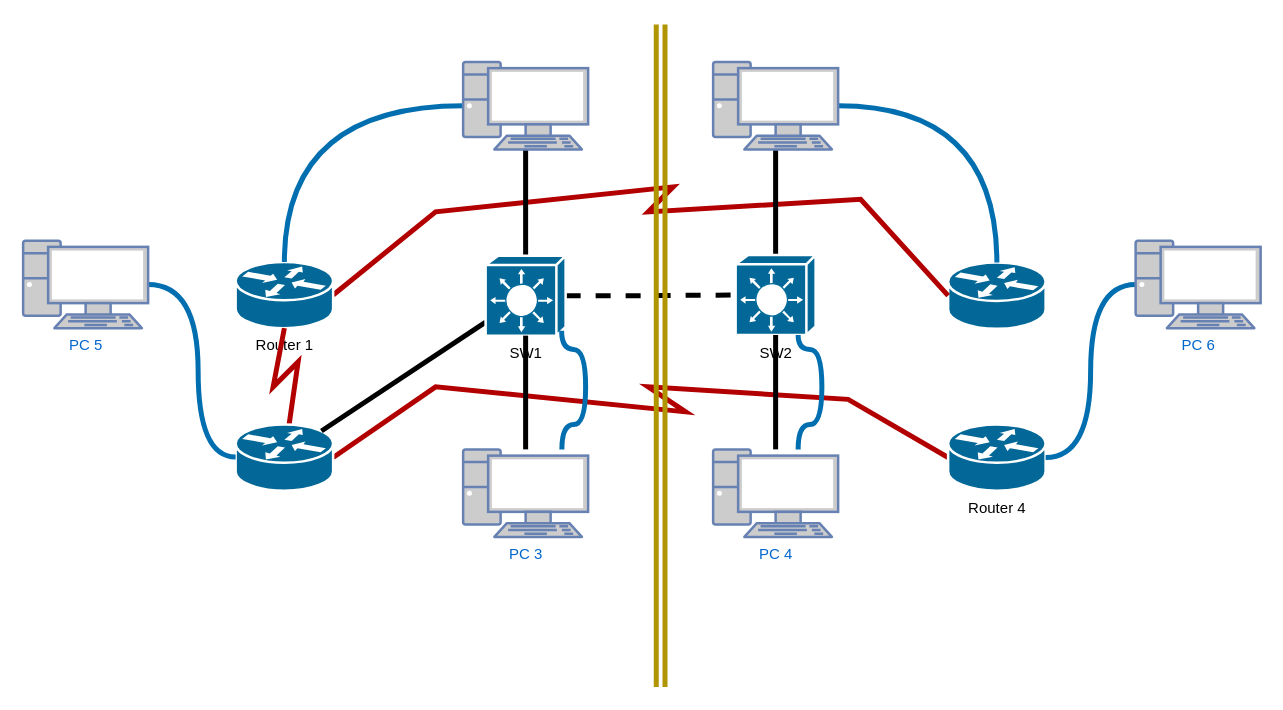
Image size: 1283x710. Some labels were removed from this diagram. Here are the shapes that lost their labels. From the top down, the box of each, then its label:
(461, 60, 589, 150): PC 1
(711, 60, 839, 150): PC 2
(946, 261, 1046, 329): Router 3
(234, 422, 334, 491): Router 2
